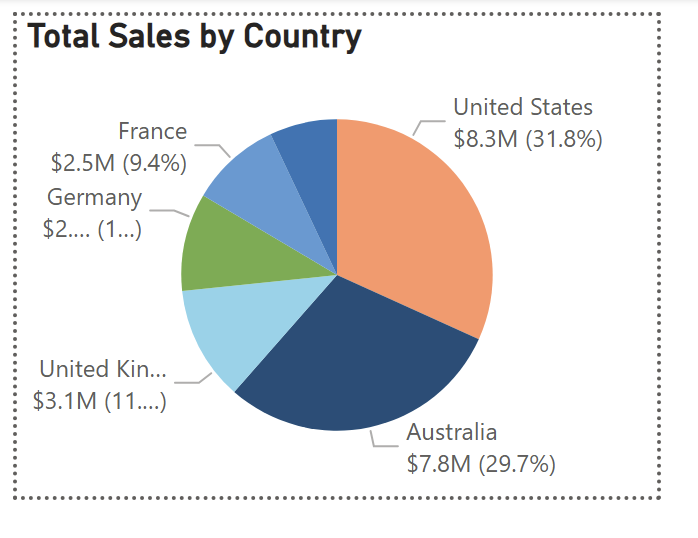

The page's visual inventory and layout, read from the dashboard file:
{"tool":"powerbi","page":{"name":"Sales regions","canvas":[320,240],"ordinal":3},"visuals":[{"type":"pieChart","title":"Total Sales by Country","fields":{"Category":["sales territory.Sales territoryy Country"],"Y":["Sales.Total Sales"]},"box":[0,0,320,240],"z":0}]}

Visuals, with their boxes in screenshot pixels (x1, y1, x2, y2), scaled from the page's 320x240 canvas onto the 698x538 screenshot:
"Total Sales by Country" pieChart: (x1=0, y1=0, x2=697, y2=537)
